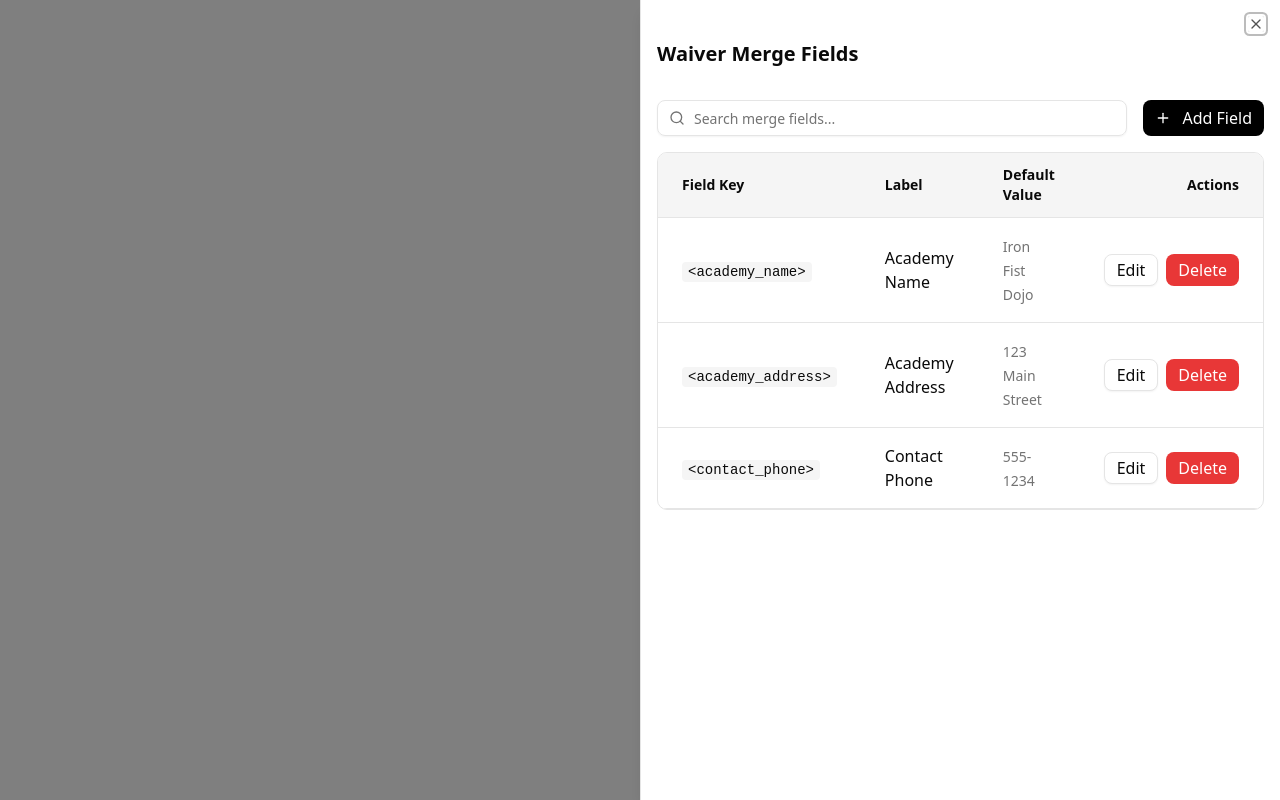
MergeFieldsManagement › Edit Action › should open EditMergeFieldModal when Edit button is clicked
The width and height of the screenshot is (1280, 800).
Expected: the text "Academy Name" is shown, [885, 247, 954, 293]
// Click the first Edit button
Click the button "Edit" in the row of "<academy_name>" at (1131, 270), box [1104, 254, 1158, 286]
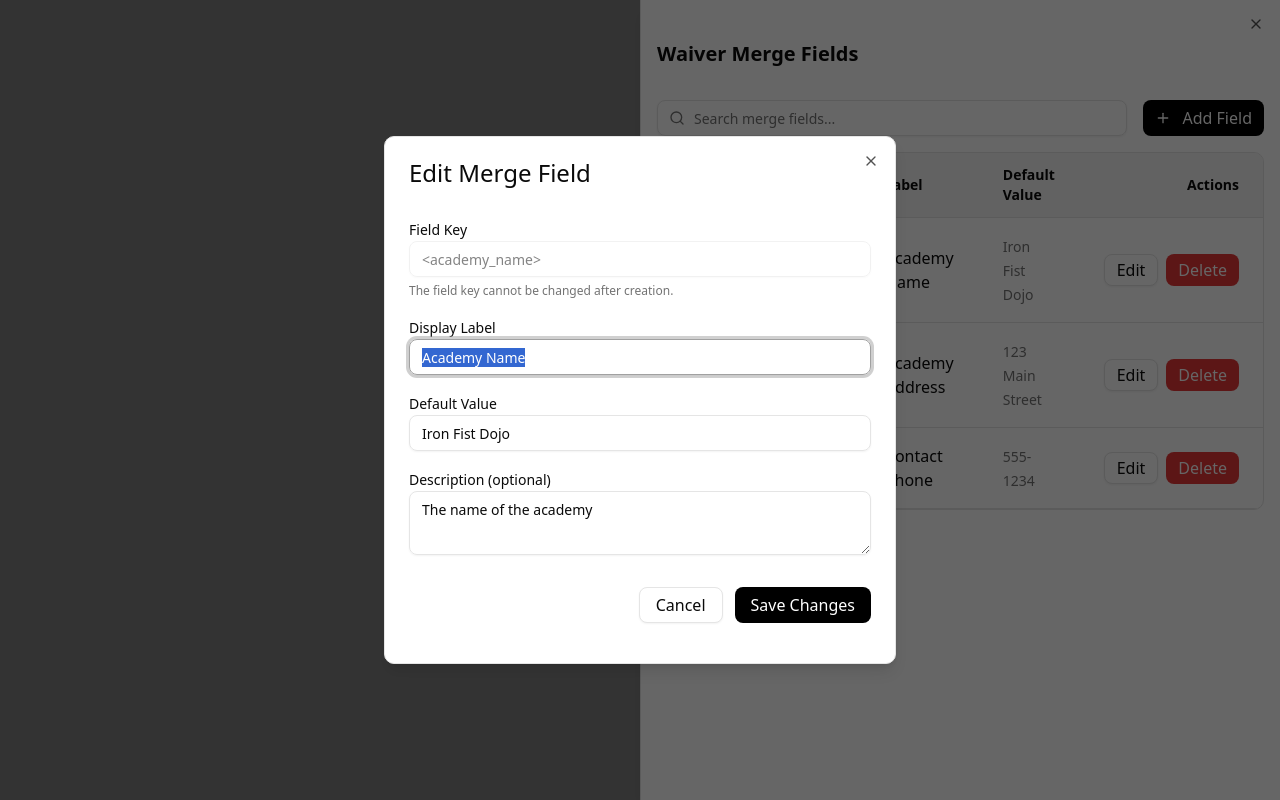
Result: the heading "Edit Merge Field" is shown at [409, 156, 591, 189]
